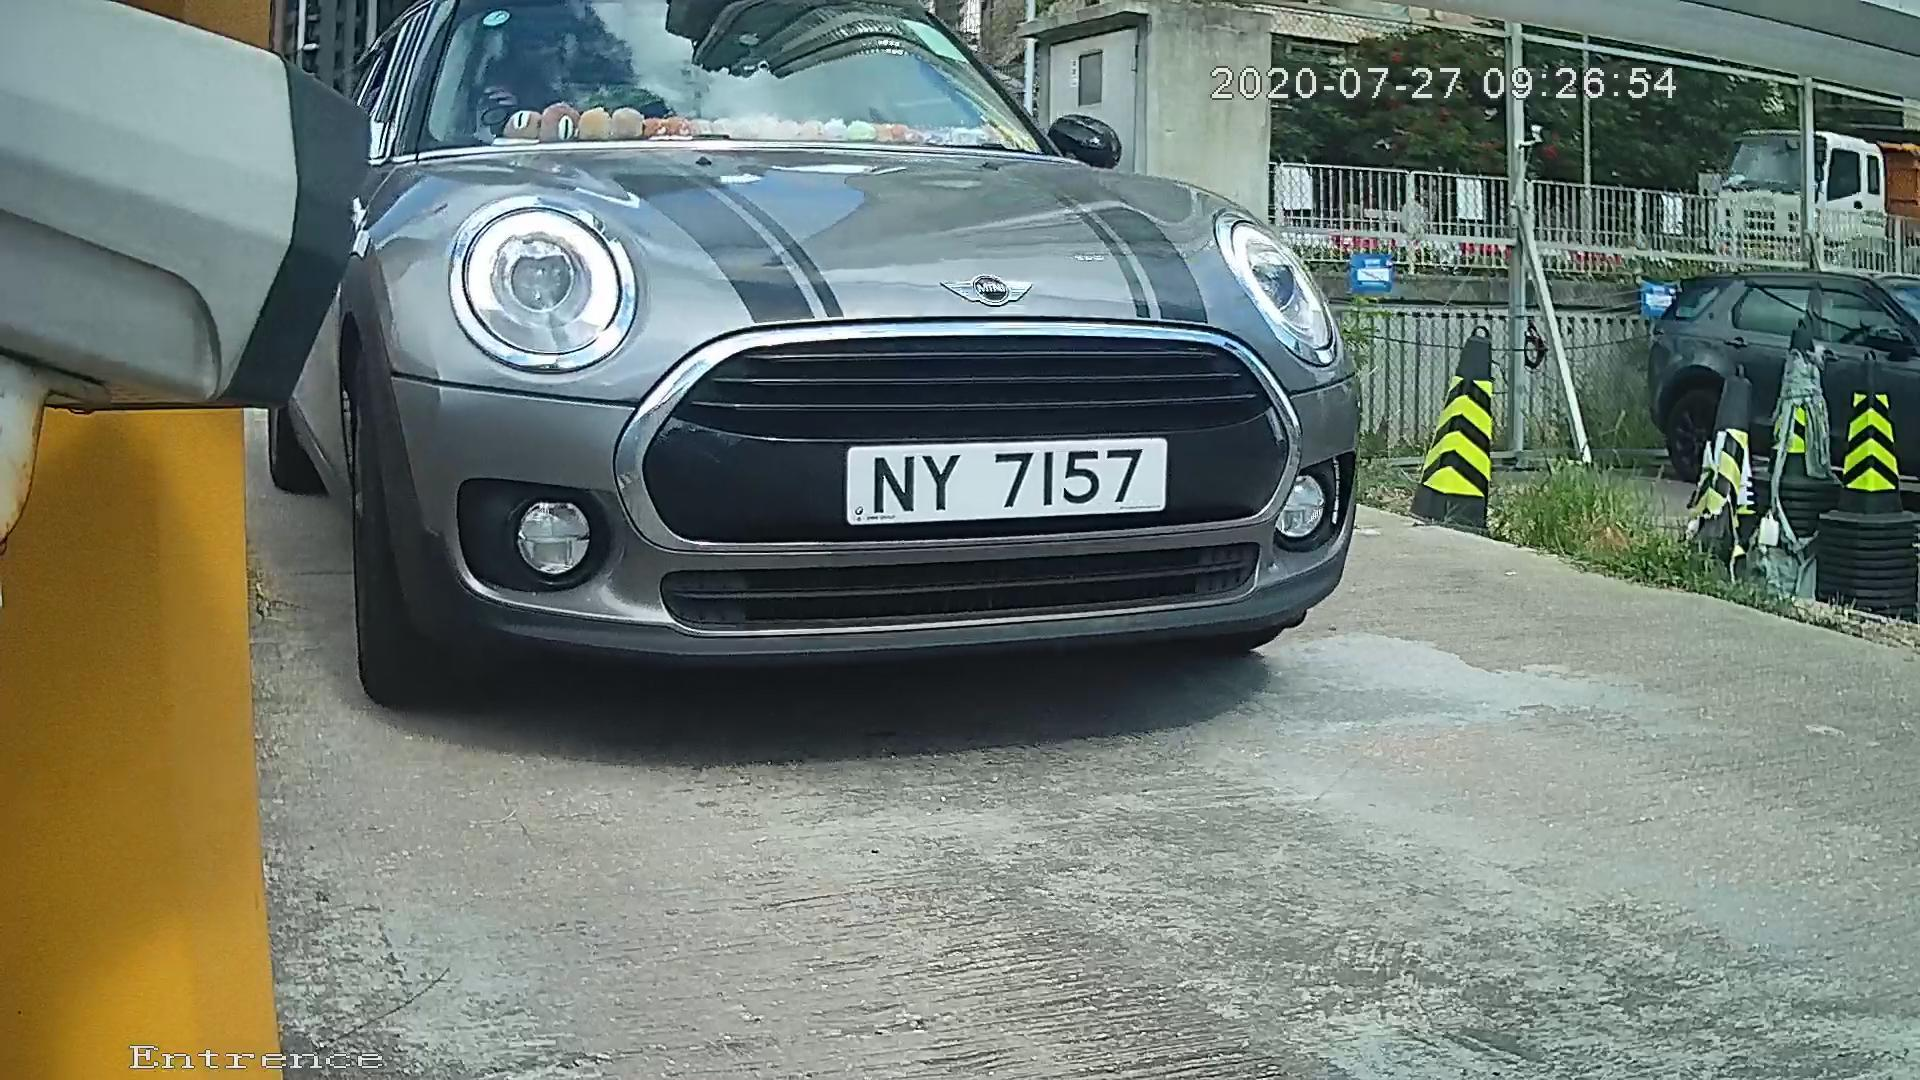License Plate: (815, 425, 1175, 536)
